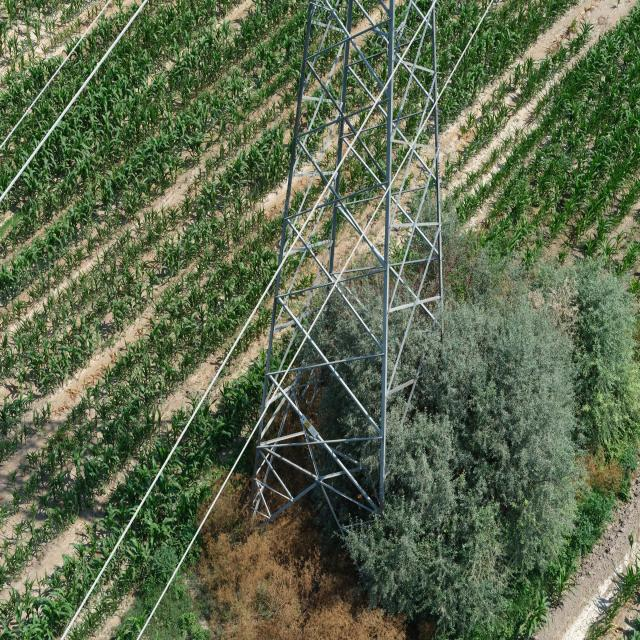direk: (253, 0, 456, 551)
tree: (335, 299, 573, 597), (458, 241, 632, 454)
